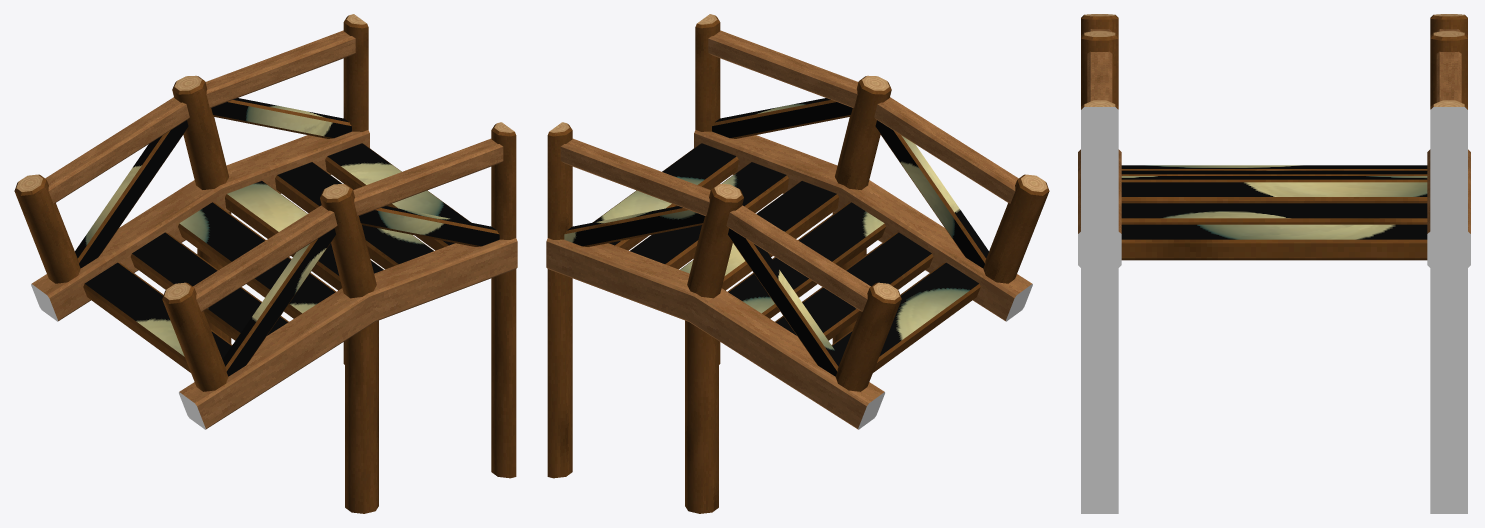
File: Prop_Bridge_End_2x2.fbx
The picture shows the model from 3 angles, left to right: view 1: azimuth 30°, elevation 25°; view 2: azimuth 150°, elevation 25°; view 3: azimuth 270°, elevation 25°; orthographic projection. The views are drawn at different scales.
Parts seen in each view (by area): view 1: Prop_Bridge_End_2x2; view 2: Prop_Bridge_End_2x2; view 3: Prop_Bridge_End_2x2.
Boxes of the visible parts, x1,y1,x2,y2 form: Prop_Bridge_End_2x2: [14, 14, 517, 513]; Prop_Bridge_End_2x2: [546, 14, 1049, 513]; Prop_Bridge_End_2x2: [1078, 14, 1470, 513].
Bounding box in the file's own units: 235 × 225 × 197.
